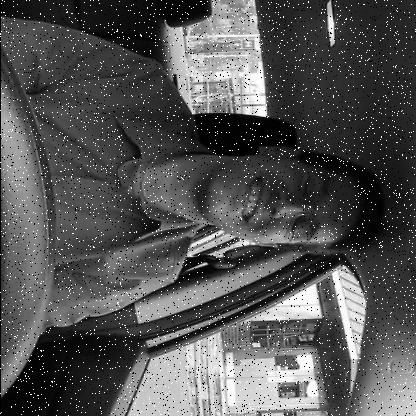no_seatbelt: (0, 110, 400, 282)
